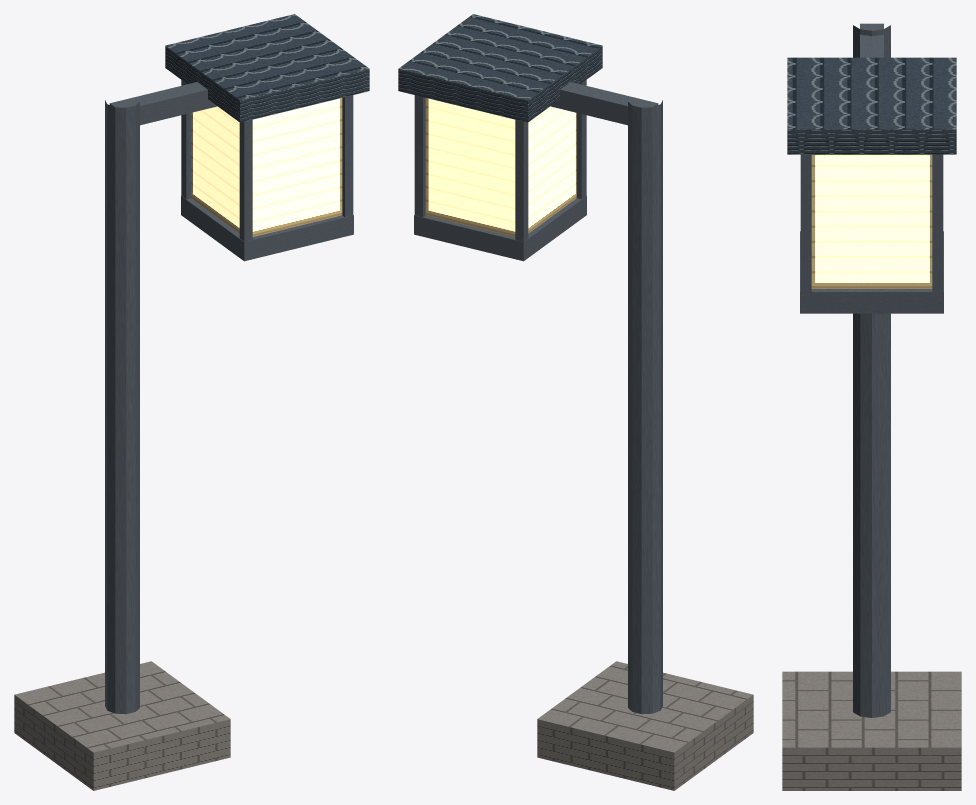
File: nyanisyarud-tsukimi-lantern.glb
3 renders of one model, left to right at view 1: azimuth 30°, elevation 25°; view 2: azimuth 150°, elevation 25°; view 3: azimuth 270°, elevation 25°, orthographic. The views are drawn at different scales.
Visible parts, largest first — view 1: nyanisyarud-tsukimi-lantern; view 2: nyanisyarud-tsukimi-lantern; view 3: nyanisyarud-tsukimi-lantern.
Boxes of the visible parts, bbox=[...] form: nyanisyarud-tsukimi-lantern: bbox=[14, 14, 369, 790]; nyanisyarud-tsukimi-lantern: bbox=[398, 14, 753, 790]; nyanisyarud-tsukimi-lantern: bbox=[782, 23, 961, 790].
Bounding box in the file's own units: 1.82 × 4.09 × 0.9.
Materials: 1 (1 with a texture image).
